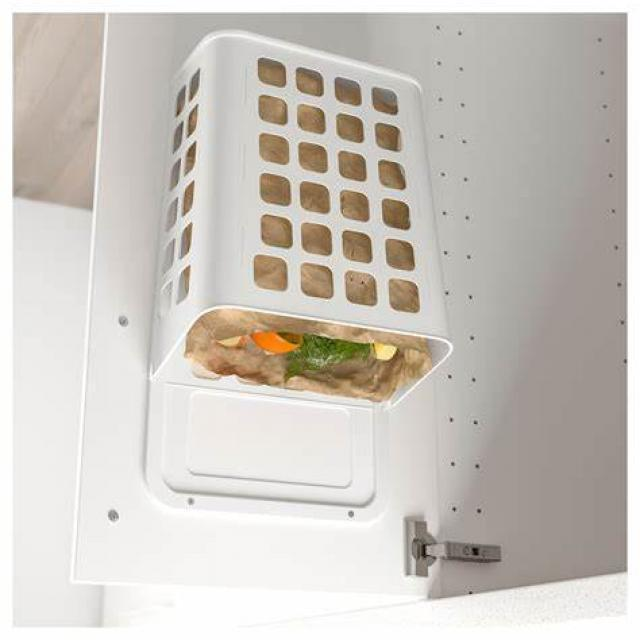garbage container: (121, 27, 457, 532)
